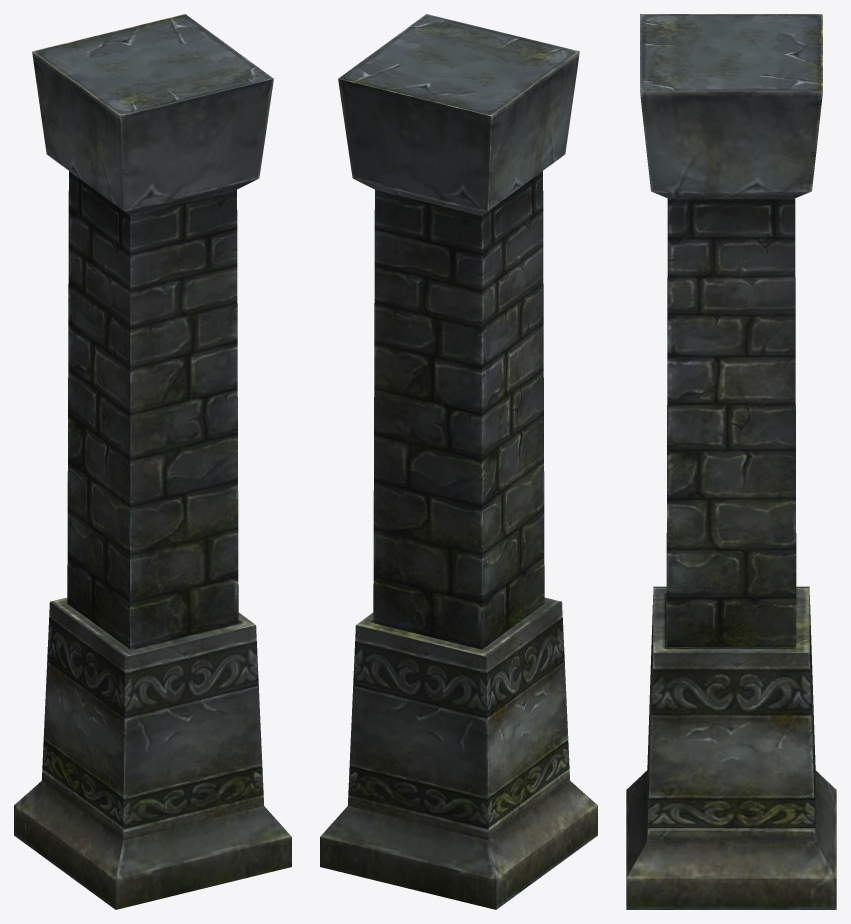
Rendered from C_zhuzi001.fbx.
3 renders of one model, left to right at view 1: azimuth 30°, elevation 25°; view 2: azimuth 150°, elevation 25°; view 3: azimuth 270°, elevation 25°, orthographic. The views are drawn at different scales.
Visible parts, largest first — view 1: C_zhuzi001; view 2: C_zhuzi001; view 3: C_zhuzi001.
Part boxes in pixels (box(x1,y1,x2,y2)): C_zhuzi001: box(14, 14, 291, 909); C_zhuzi001: box(320, 14, 597, 909); C_zhuzi001: box(626, 14, 836, 909).
Bounding box in the file's own units: 60.05 × 256 × 60.05.
